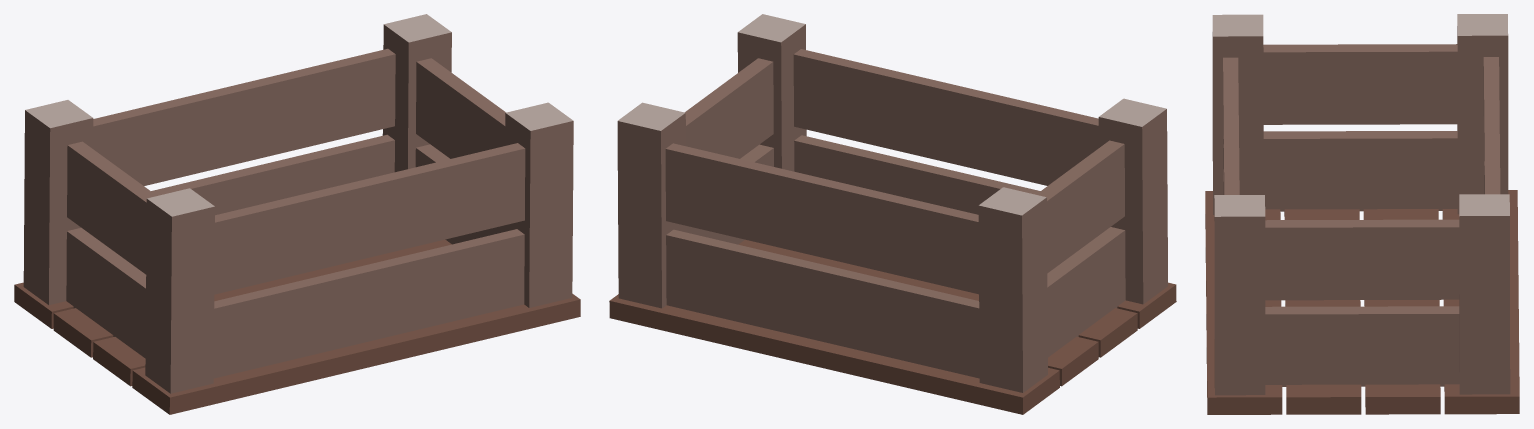
File: Ship_007.fbx
3 views of the same model, side by side, from view 1: azimuth 30°, elevation 25°; view 2: azimuth 150°, elevation 25°; view 3: azimuth 270°, elevation 25° (orthographic).
Visible parts, largest first — view 1: Ship_007; view 2: Ship_007; view 3: Ship_007.
Part boxes in pixels (x1=…): Ship_007: x1=14, y1=14, x2=580, y2=414; Ship_007: x1=609, y1=14, x2=1176, y2=414; Ship_007: x1=1205, y1=14, x2=1519, y2=414.
Bounding box in the file's own units: 84.27 × 54.88 × 38.5.
Materials: 1 (1 with a texture image).
